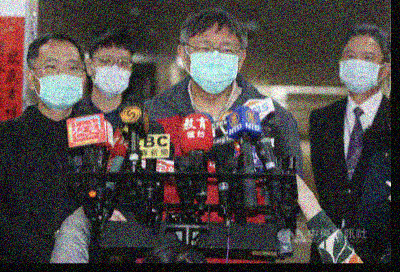with_mask: (186, 35, 240, 91), (34, 54, 85, 108), (341, 45, 382, 93), (92, 51, 132, 95)
